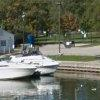Boat: (0, 43, 61, 86)
